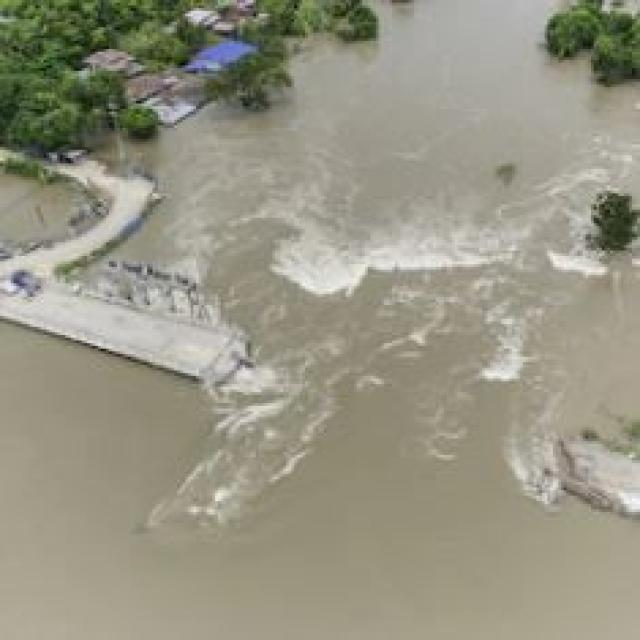flooded_areas: (8, 76, 618, 605)
